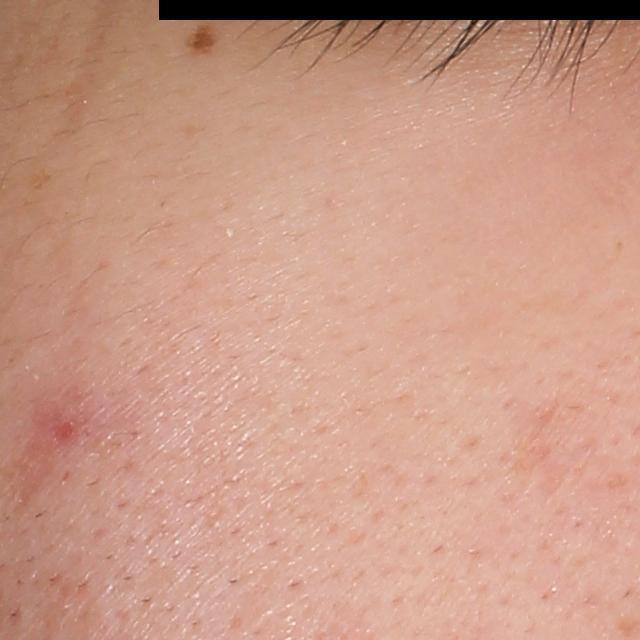nevus: (189, 19, 220, 54)
